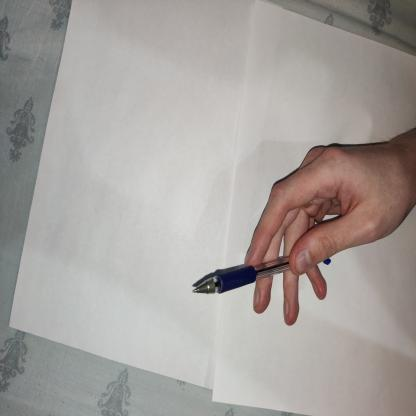Pen: (186, 241, 326, 307)
